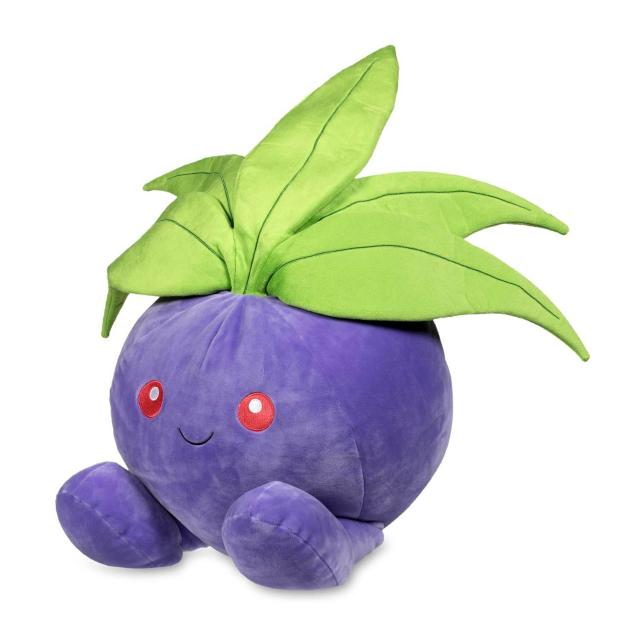Oddish: (49, 94, 513, 595)
